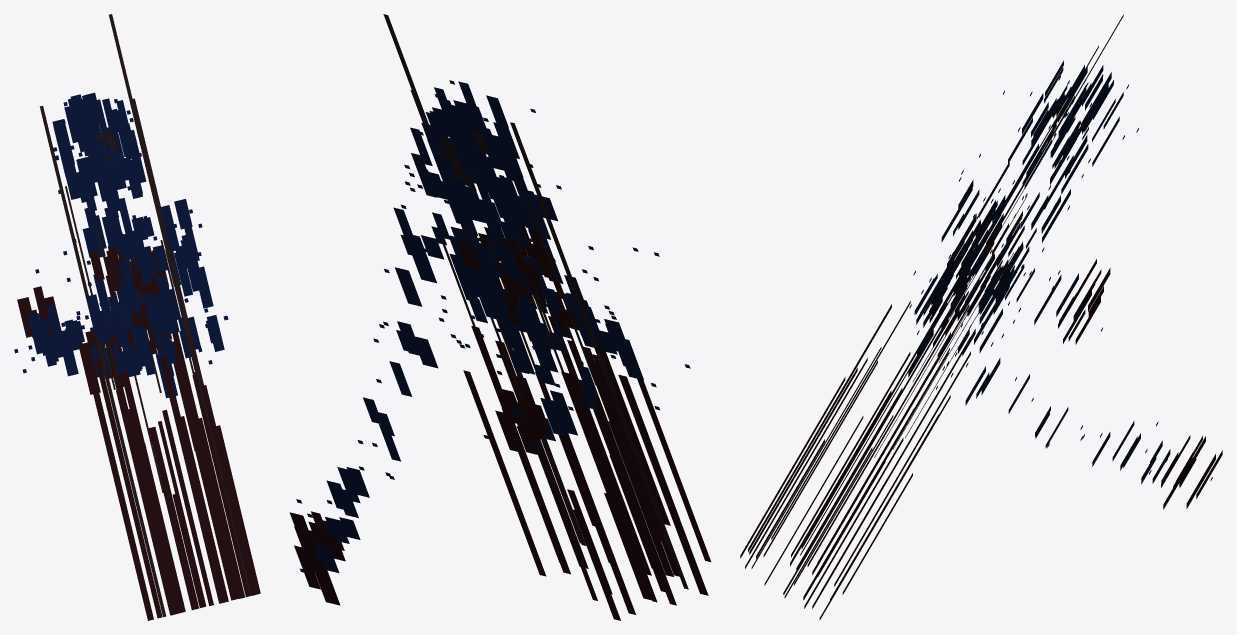
Rendered from black_ice.glb.
The picture shows the model from 3 angles, left to right: view 1: azimuth 30°, elevation 25°; view 2: azimuth 150°, elevation 25°; view 3: azimuth 270°, elevation 25°; orthographic projection. The views are drawn at different scales.
Visible parts, largest first — view 1: black_ice_inner, black_ice_shell, black_ice_dust; view 2: black_ice_inner, black_ice_shell, black_ice_dust; view 3: black_ice_inner, black_ice_shell, black_ice_dust.
Boxes of the visible parts, x1,y1,x2,y2 form: black_ice_inner: (17, 14, 260, 620); black_ice_shell: (27, 92, 224, 398); black_ice_dust: (14, 95, 228, 373); black_ice_inner: (289, 14, 711, 620); black_ice_shell: (313, 81, 643, 573); black_ice_dust: (296, 80, 690, 572); black_ice_inner: (740, 14, 1222, 620); black_ice_shell: (908, 60, 1196, 487); black_ice_dust: (909, 74, 1212, 480).
Bounding box in the file's own units: 1.41 × 3.12 × 2.25.
